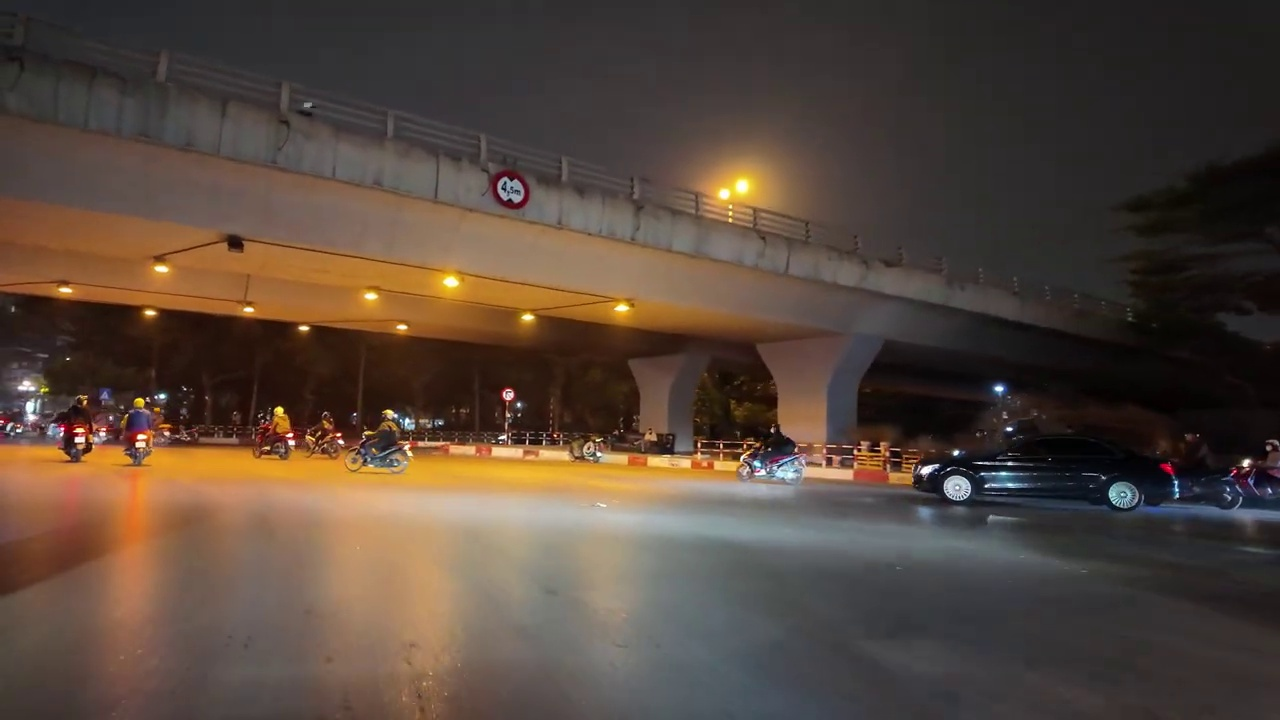acesa: (715, 170, 763, 209)
